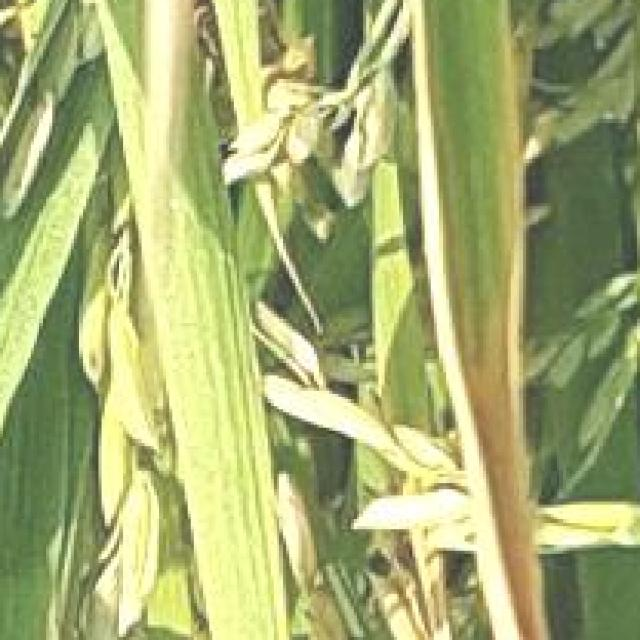Bacterial_Leaf_Blight: (396, 9, 578, 640)
